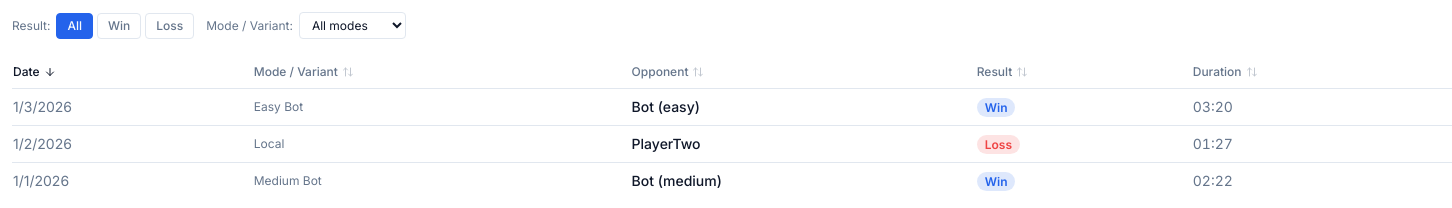
MatchHistoryTable — filter bar › shows no-match message when filter returns zero results
The width and height of the screenshot is (1452, 208).
Click the button "Loss" at (170, 26), box [145,12,194,38]
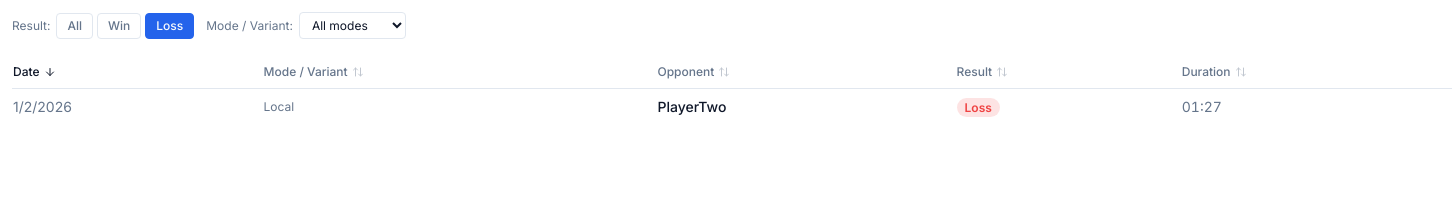
Select "Easy Bot" in the dropdown named "filter by game mode" at (352, 26), box [299,12,406,39]
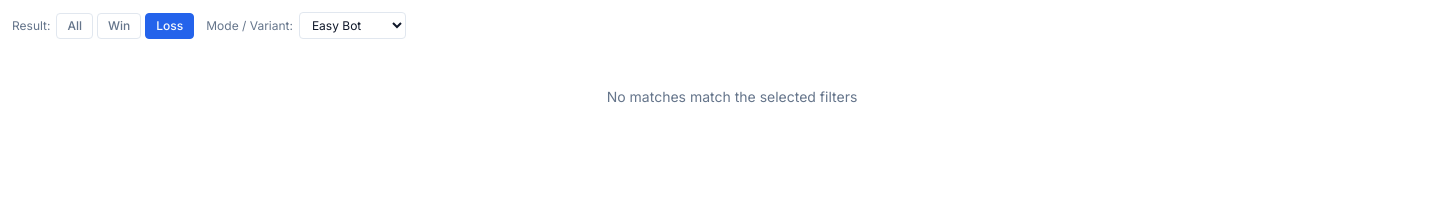
Check: the text "No matches match the selected filters" is shown, box [607,88,857,105]
